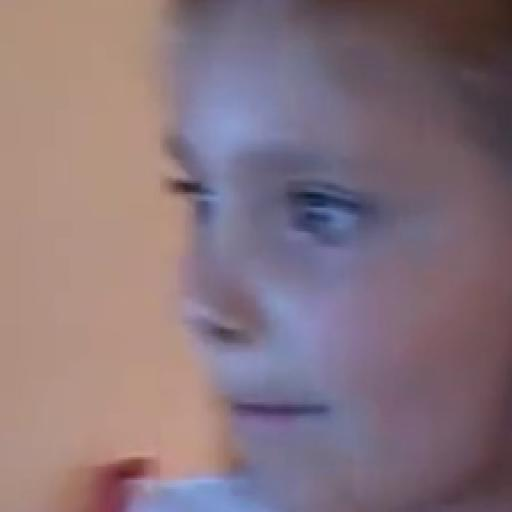Autism: (125, 20, 512, 512)
